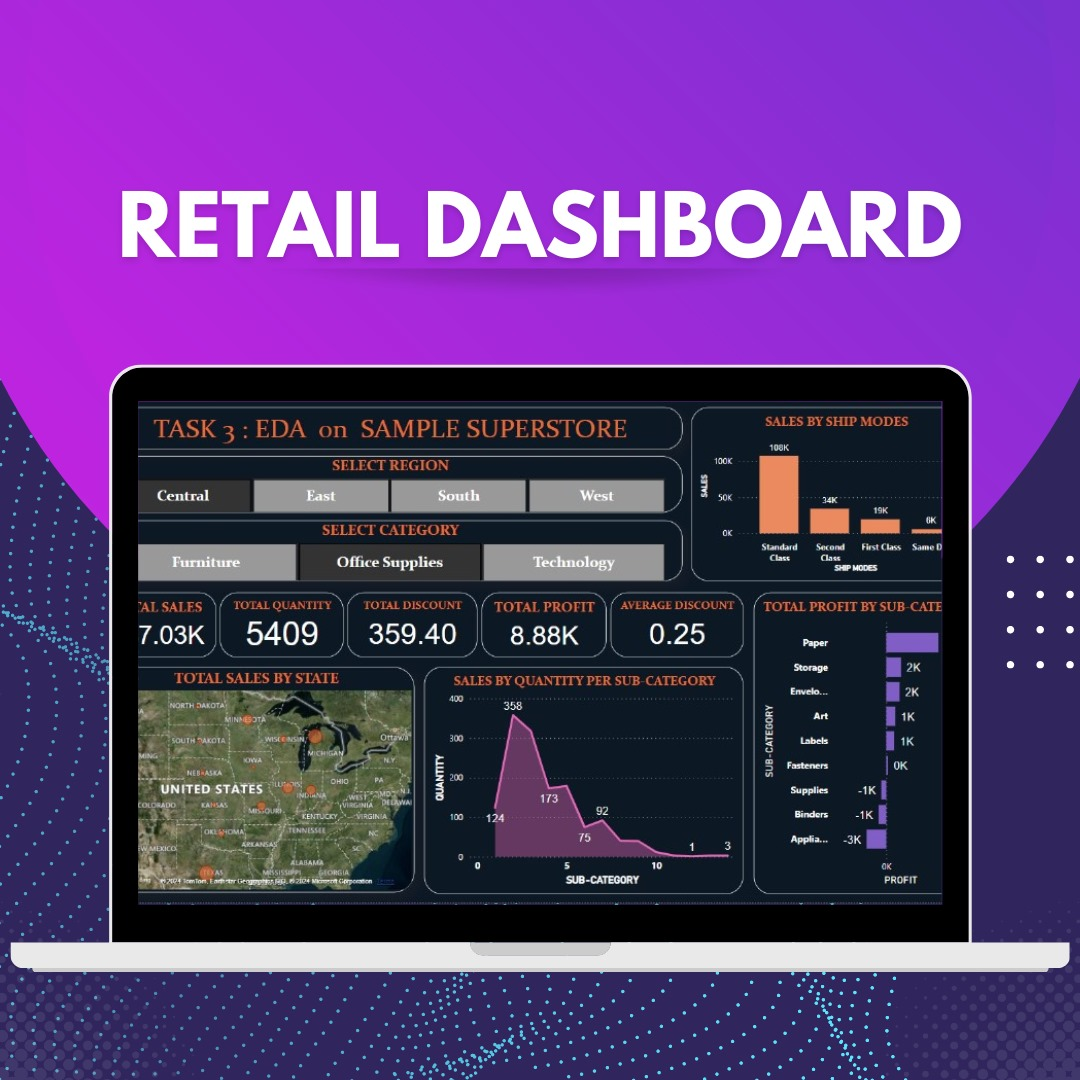

Layout of this report page (visuals, bound fields, positions):
{"tool":"powerbi","page":{"name":"Page 1","canvas":[1280,720],"ordinal":0},"visuals":[{"type":"card","title":"TOTAL SALES","fields":{"Values":["Sum(SampleSuperstore.Sales)"]},"box":[11,277.5,169.9,92.9],"z":0},{"type":"card","title":"TOTAL QUANTITY","fields":{"Values":["Sum(SampleSuperstore.Quantity)"]},"box":[185.8,277.5,176,92.9],"z":1000},{"type":"card","title":"AVERAGE DISCOUNT","fields":{"Values":["Avg(SampleSuperstore.Discount)"]},"box":[742,277.5,189.5,92.9],"z":2000},{"type":"card","title":"TOTAL PROFIT","fields":{"Values":["Sum(SampleSuperstore.Profit)"]},"box":[558.6,277.5,177.2,92.9],"z":3000},{"type":"slicer","title":"SELECT REGION","fields":{"Values":["SampleSuperstore.Region"]},"box":[11,83.1,833.7,80.7],"z":4000},{"type":"clusteredBarChart","title":"TOTAL PROFIT BY SUB-CATEGORY","fields":{"Category":["SampleSuperstore.Sub-Category"],"Y":["Sum(SampleSuperstore.Profit)"]},"box":[946.1,277.5,323.9,430.3],"z":5000},{"type":"areaChart","title":"SALES BY QUANTITY PER SUB-CATEGORY","fields":{"Category":["SampleSuperstore.Quantity"],"Y":["CountNonNull(SampleSuperstore.Sub-Category)"]},"box":[476.7,383.8,454.7,323.9],"z":6000},{"type":"clusteredColumnChart","title":"SALES BY SHIP MODES","fields":{"Category":["SampleSuperstore.Ship Mode"],"Y":["Sum(SampleSuperstore.Sales)"]},"box":[856.9,13.4,413.2,248.1],"z":7000},{"type":"slicer","title":"SELECT CATEGORY","fields":{"Values":["SampleSuperstore.Category"]},"box":[11,174.8,833.7,86.8],"z":8000},{"type":"card","title":"TOTAL DISCOUNT","fields":{"Values":["Sum(SampleSuperstore.Discount)"]},"box":[366.7,277.5,185.8,92.9],"z":9000},{"type":"textbox","box":[11,13.4,833.7,61.1],"z":10000},{"type":"map","title":"TOTAL SALES BY STATE","fields":{"Category":["SampleSuperstore.State"],"Size":["Sum(SampleSuperstore.Sales)"]},"box":[11,383.8,452.3,321.5],"z":11000}]}

Visuals, with their boxes on the page's 1280x720 design canvas (x1, y1, x2, y2). These are canvas units, not pixel positions in the 1080x1080 screenshot, which may show the page scaled, cropped or inside an application window:
"TOTAL SALES" card: (x1=11, y1=278, x2=181, y2=370)
"TOTAL QUANTITY" card: (x1=186, y1=278, x2=362, y2=370)
"AVERAGE DISCOUNT" card: (x1=742, y1=278, x2=932, y2=370)
"TOTAL PROFIT" card: (x1=559, y1=278, x2=736, y2=370)
"SELECT REGION" slicer: (x1=11, y1=83, x2=845, y2=164)
"TOTAL PROFIT BY SUB-CATEGORY" clusteredBarChart: (x1=946, y1=278, x2=1270, y2=708)
"SALES BY QUANTITY PER SUB-CATEGORY" areaChart: (x1=477, y1=384, x2=931, y2=708)
"SALES BY SHIP MODES" clusteredColumnChart: (x1=857, y1=13, x2=1270, y2=262)
"SELECT CATEGORY" slicer: (x1=11, y1=175, x2=845, y2=262)
"TOTAL DISCOUNT" card: (x1=367, y1=278, x2=552, y2=370)
textbox: (x1=11, y1=13, x2=845, y2=74)
"TOTAL SALES BY STATE" map: (x1=11, y1=384, x2=463, y2=705)
